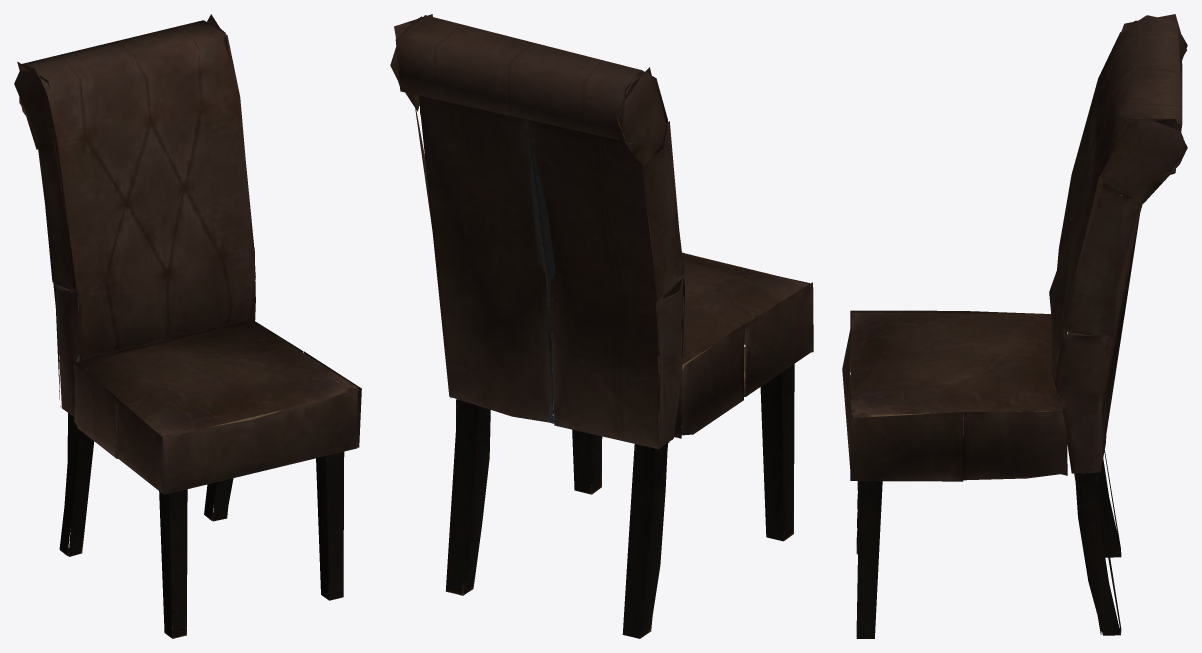
The model's file is ph_dining_chair_02.glb.
3 renders of one model, left to right at view 1: azimuth 30°, elevation 25°; view 2: azimuth 150°, elevation 25°; view 3: azimuth 270°, elevation 25°, orthographic. The views are drawn at different scales.
Parts seen in each view (by area): view 1: dining_chair_02; view 2: dining_chair_02; view 3: dining_chair_02.
Boxes of the visible parts, x1,y1,x2,y2 form: dining_chair_02: [14, 14, 361, 638]; dining_chair_02: [390, 14, 813, 638]; dining_chair_02: [842, 14, 1187, 638].
Size of the model in its own units: 0.4273 by 0.9743 by 0.5779.
1 material, 1 textured.
